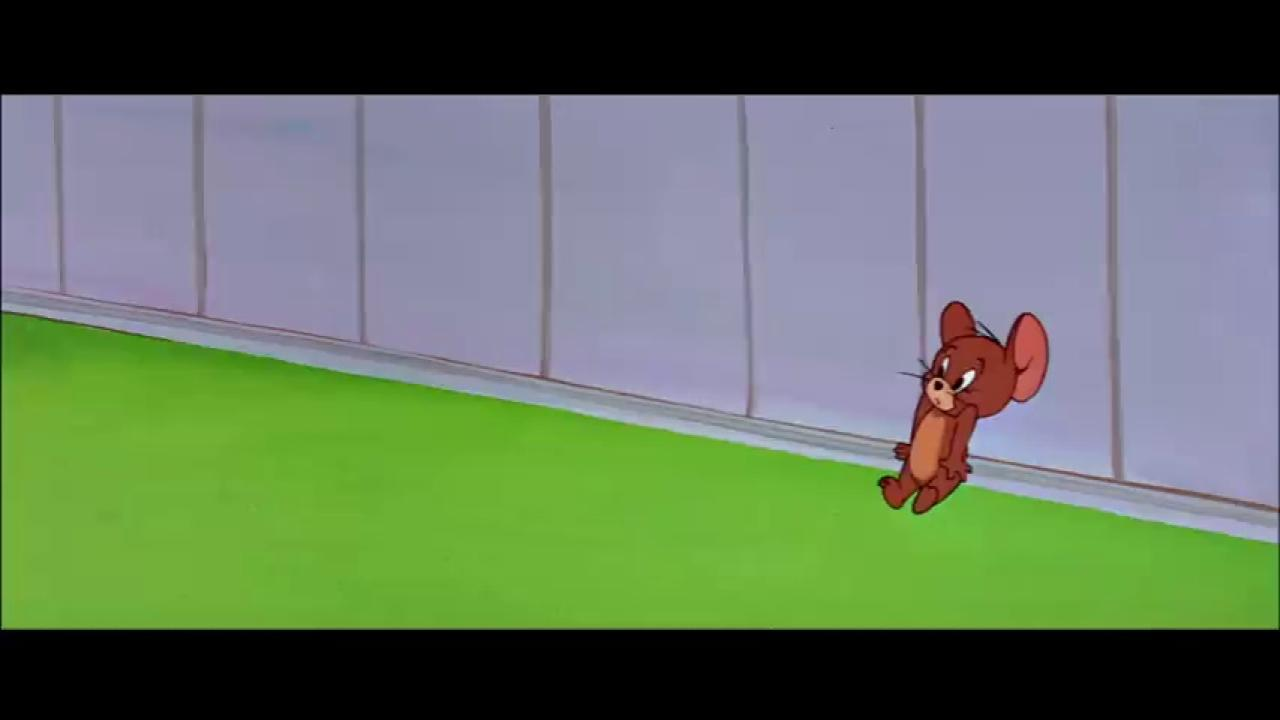Jerry: (876, 299, 1052, 516)
